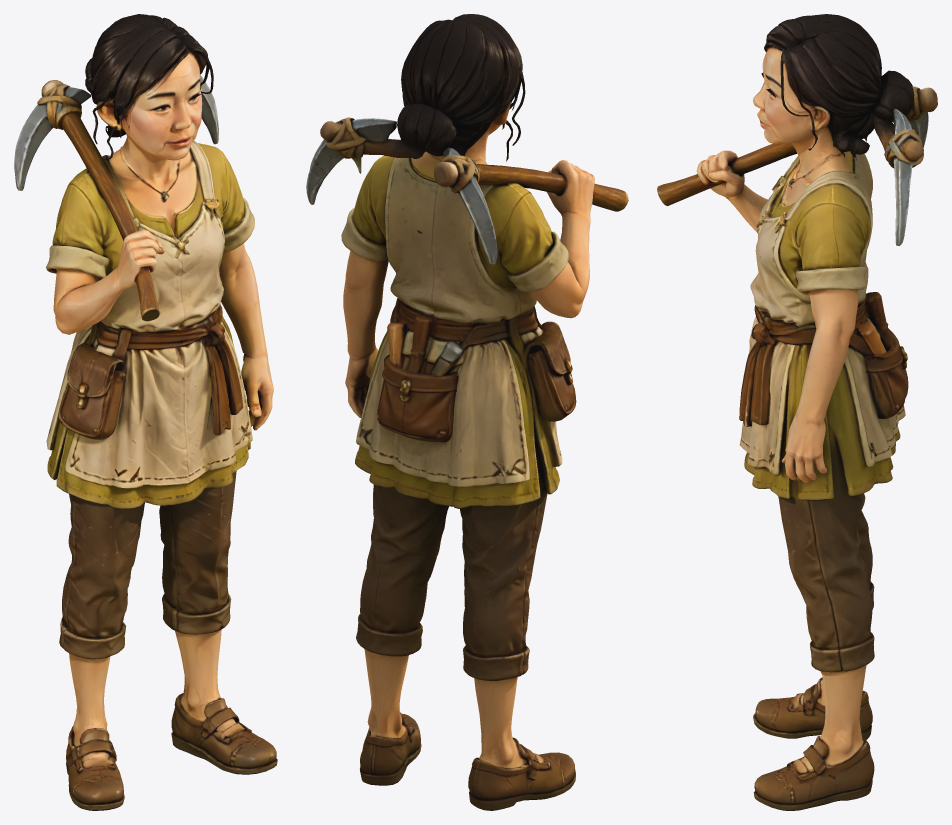
File: base_basic_shaded.glb
3 views of the same model, side by side, from view 1: azimuth 30°, elevation 25°; view 2: azimuth 150°, elevation 25°; view 3: azimuth 270°, elevation 25° (orthographic). The views are drawn at different scales.
Visible parts, largest first — view 1: model; view 2: model; view 3: model.
Boxes of the visible parts, <box> form: model: <box>14,14,277,810</box>; model: <box>306,14,628,810</box>; model: <box>657,14,937,810</box>.
Bounding box in the file's own units: 0.5904 × 1.9 × 0.651.
1 material, 1 textured.
